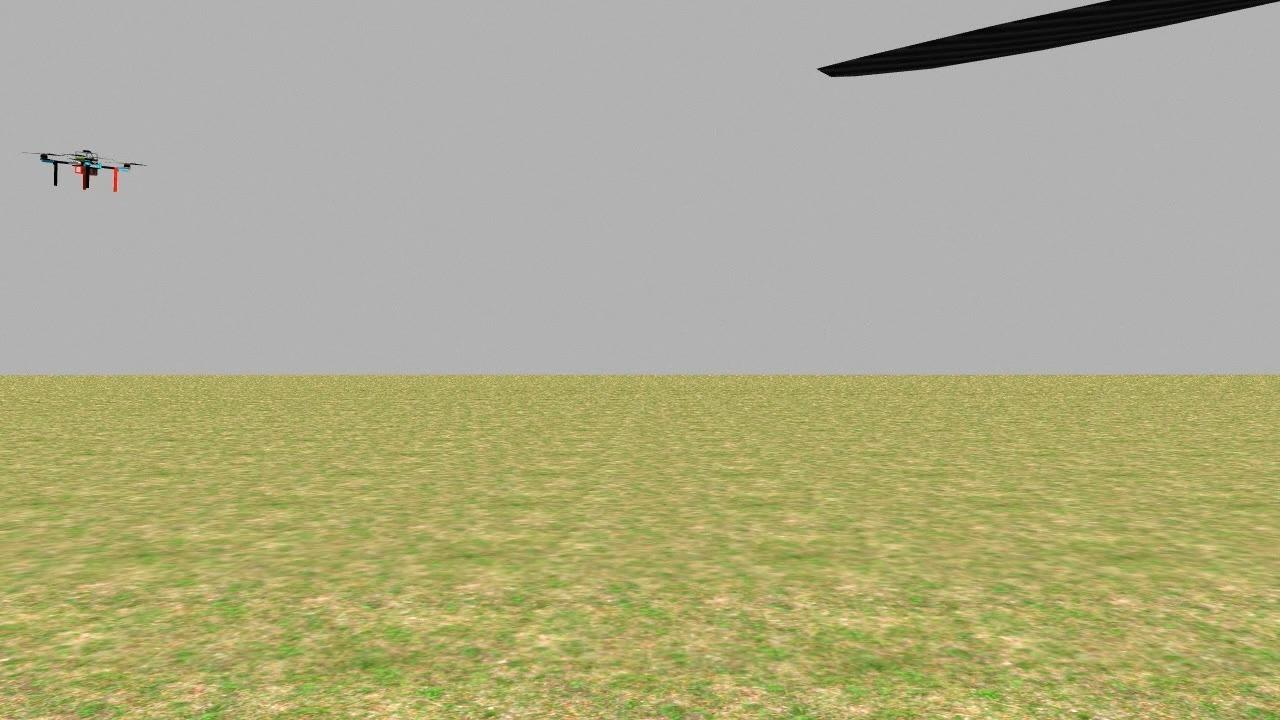UAV: (20, 122, 158, 208)
